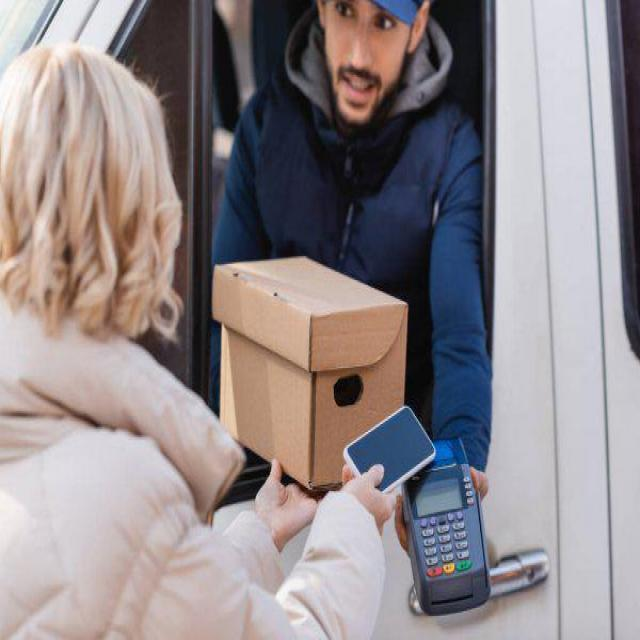box: (208, 246, 416, 512)
